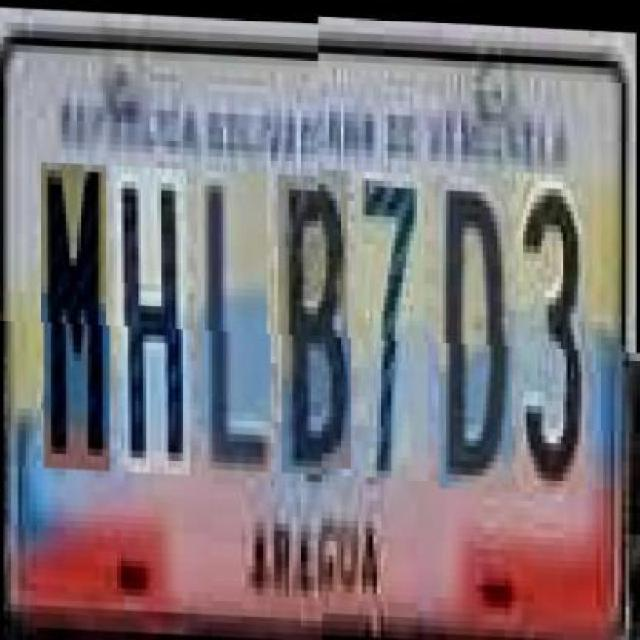3: (520, 174, 586, 497)
7: (358, 175, 428, 482)
b: (280, 172, 352, 473)
d: (438, 178, 512, 494)
h: (117, 165, 191, 473)
l: (200, 169, 272, 476)
m: (44, 162, 110, 469)
